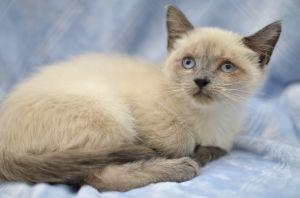siamese: (158, 4, 285, 118)
